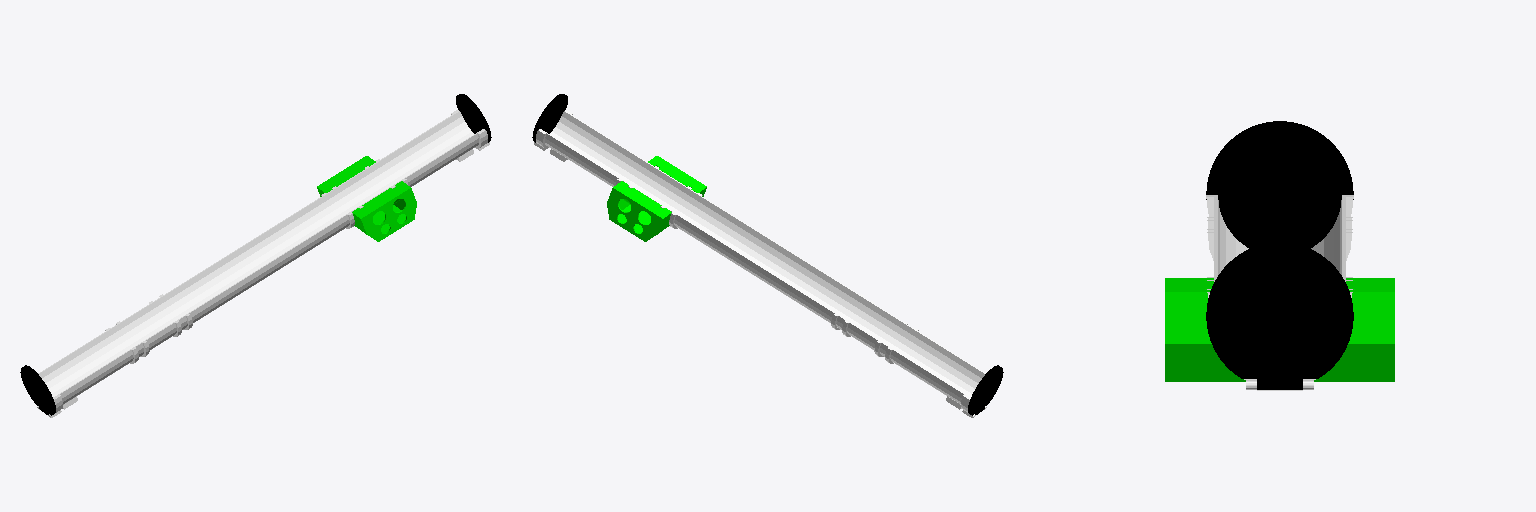
URDF robot description (exocet_launcher_half):
<?xml version="1.0" ?>
<!-- =================================================================================== -->
<!-- |    This document was autogenerated by xacro from src/exocet_launcher_half_description/urdf/exocet_launcher_half.xacro | -->
<!-- |    EDITING THIS FILE BY HAND IS NOT RECOMMENDED                                 | -->
<!-- =================================================================================== -->
<robot name="exocet_launcher_half">
  <material name="grey">
    <color rgba="0.2 0.2 0.2 1.0"/>
  </material>
  <material name="darkgrey">
    <color rgba="0.18359375 0.30859375 0.30859375 1.000"/>
  </material>
  <material name="silver">
    <color rgba="0.700 0.700 0.700 1.000"/>
  </material>
  <material name="white">
    <color rgba="1 1 1 1"/>
  </material>
  <material name="orange">
    <color rgba="1 0.3 0.1 1"/>
  </material>
  <material name="blue">
    <color rgba="0.2 0.2 1 1"/>
  </material>
  <material name="red">
    <color rgba="0.8 0 0 1"/>
  </material>
  <material name="green">
    <color rgba="0.0 1 0.0 1"/>
  </material>
  <material name="black">
    <color rgba="0 0 0 1"/>
  </material>
  <transmission name="CupOpener_tran">
    <type>transmission_interface/SimpleTransmission</type>
    <joint name="CupOpener">
      <hardwareInterface>hardware_interface/EffortJointInterface</hardwareInterface>
    </joint>
    <actuator name="CupOpener_actr">
      <hardwareInterface>hardware_interface/EffortJointInterface</hardwareInterface>
      <mechanicalReduction>1</mechanicalReduction>
    </actuator>
  </transmission>
  <gazebo reference="base_link">
    <material>Gazebo/DarkGrey</material>
    <mu1>0.2</mu1>
    <mu2>0.2</mu2>
    <selfCollide>true</selfCollide>
    <gravity>true</gravity>
  </gazebo>
  <gazebo reference="Canister_1">
    <material>Gazebo/White</material>
    <mu1>0.2</mu1>
    <mu2>0.2</mu2>
    <selfCollide>true</selfCollide>
    <visual>
      <transparency>0.75</transparency>
    </visual>
  </gazebo>
  <!-- <gazebo reference="Cup_3">
    <material>Gazebo/Black</material>
    <mu1>0.2</mu1>
    <mu2>0.2</mu2>
    <selfCollide>true</selfCollide>
  </gazebo> -->
  <gazebo reference="Cup_1">
    <material>Gazebo/Black</material>
    <mu1>0.2</mu1>
    <mu2>0.2</mu2>
    <selfCollide>true</selfCollide>
  </gazebo>
  <gazebo reference="CanisterHolder_1">
    <material>Gazebo/Green</material>
    <mu1>0.2</mu1>
    <mu2>0.2</mu2>
    <selfCollide>true</selfCollide>
  </gazebo>
  <gazebo reference="CanisterHolder_2">
    <material>Gazebo/Green</material>
    <mu1>0.2</mu1>
    <mu2>0.2</mu2>
    <selfCollide>true</selfCollide>
  </gazebo>
  <link name="base_link">
    <inertial>
      <origin rpy="0 0 0" xyz="0.21956009217606984 4.3636388735968575e-16 0.6746334924440056"/>
      <mass value="10722.621074762288"/>
      <inertia ixx="3680.005759" ixy="0.0" ixz="-2210.827735" iyy="13504.573497" iyz="0.0" izz="12126.040929"/>
    </inertial>
    <visual>
      <origin rpy="0 0 0" xyz="0 0 0"/>
      <geometry>
        <mesh filename="package://exocet_launcher_half_description/meshes/base_link.stl" scale="0.001 0.001 0.001"/>
      </geometry>
      <material name="darkgrey"/>
    </visual>
    <collision>
      <origin rpy="0 0 0" xyz="0 0 0"/>
      <geometry>
        <mesh filename="package://exocet_launcher_half_description/meshes/base_link.stl" scale="0.001 0.001 0.001"/>
      </geometry>
    </collision>
  </link>
  <link name="Canister_1">
    <inertial>
      <origin rpy="0 0 0" xyz="-1.3455029394993274 -5.851690442643435e-12 -0.6889676216530494"/>
      <mass value="804.672730610412"/>
      <inertia ixx="373.324731" ixy="-0.0" ixz="-924.286606" iyy="2888.906844" iyz="-0.0" izz="2576.368498"/>
    </inertial>
    <visual>
      <origin rpy="0 0 0" xyz="-1.262326 0.0 -2.249618"/>
      <geometry>
        <mesh filename="package://exocet_launcher_half_description/meshes/Canister_1.stl" scale="0.001 0.001 0.001"/>
      </geometry>
      <material name="white"/>
    </visual>
    <collision>
      <origin rpy="0 0 0" xyz="-1.262326 0.0 -2.249618"/>
      <geometry>
        <mesh filename="package://exocet_launcher_half_description/meshes/Canister_1.stl" scale="0.001 0.001 0.001"/>
      </geometry>
    </collision>
  </link>
  <link name="Cup_3">
    <inertial>
      <origin rpy="0 0 0" xyz="-0.10791790928581646 -8.207033013996926e-09 0.281244501140661"/>
      <mass value="124.35780308588551"/>
      <inertia ixx="5.91815" ixy="0.0" ixz="0.997121" iyy="3.153552" iyz="0.0" izz="3.54169"/>
    </inertial>
    <visual>
      <origin rpy="0 0 0" xyz="-2.805247 0.0 -2.491208"/>
      <geometry>
        <mesh filename="package://exocet_launcher_half_description/meshes/Cup_3.stl" scale="0.001 0.001 0.001"/>
      </geometry>
      <material name="black"/>
    </visual>
    <collision>
      <origin rpy="0 0 0" xyz="-2.805247 0.0 -2.491208"/>
      <geometry>
        <mesh filename="package://exocet_launcher_half_description/meshes/Cup_3.stl" scale="0.001 0.001 0.001"/>
      </geometry>
    </collision>
  </link>
  <link name="Cup_1">
    <inertial>
      <origin rpy="0 0 0" xyz="0.1876428588086605 8.207050409553099e-09 -0.6865610652939461"/>
      <mass value="124.35780308588551"/>
      <inertia ixx="5.918226" ixy="0.0" ixz="0.99703" iyy="3.153552" iyz="-0.0" izz="3.541614"/>
    </inertial>
    <visual>
      <origin rpy="0 0 0" xyz="3.177629 -0.0 -1.389734"/>
      <geometry>
        <mesh filename="package://exocet_launcher_half_description/meshes/Cup_1.stl" scale="0.001 0.001 0.001"/>
      </geometry>
      <material name="black"/>
    </visual>
    <collision>
      <origin rpy="0 0 0" xyz="3.177629 -0.0 -1.389734"/>
      <geometry>
        <mesh filename="package://exocet_launcher_half_description/meshes/Cup_1.stl" scale="0.001 0.001 0.001"/>
      </geometry>
    </collision>
  </link>
  <link name="CanisterHolder_1">
    <inertial>
      <origin rpy="0 0 0" xyz="-0.05951337321479344 1.4715522383126382e-16 0.16351174115532052"/>
      <mass value="335.0395971576902"/>
      <inertia ixx="43.686085" ixy="0.0" ixz="-3.25077" iyy="22.365267" iyz="0.0" izz="51.43432"/>
    </inertial>
    <visual>
      <origin rpy="0 0 0" xyz="1.419944 0.0 -0.847681"/>
      <geometry>
        <mesh filename="package://exocet_launcher_half_description/meshes/CanisterHolder_1.stl" scale="0.001 0.001 0.001"/>
      </geometry>
      <material name="green"/>
    </visual>
    <collision>
      <origin rpy="0 0 0" xyz="1.419944 0.0 -0.847681"/>
      <geometry>
        <mesh filename="package://exocet_launcher_half_description/meshes/CanisterHolder_1.stl" scale="0.001 0.001 0.001"/>
      </geometry>
    </collision>
  </link>
  <link name="CanisterHolder_2">
    <inertial>
      <origin rpy="0 0 0" xyz="-0.05951351085707057 1.4715522383126382e-16 0.16351217113232974"/>
      <mass value="335.0395971576902"/>
      <inertia ixx="43.686085" ixy="0.0" ixz="-3.25077" iyy="22.365267" iyz="0.0" izz="51.43432"/>
    </inertial>
    <visual>
      <origin rpy="0 0 0" xyz="-1.399134 0.0 -1.873741"/>
      <geometry>
        <mesh filename="package://exocet_launcher_half_description/meshes/CanisterHolder_2.stl" scale="0.001 0.001 0.001"/>
      </geometry>
      <material name="green"/>
    </visual>
    <collision>
      <origin rpy="0 0 0" xyz="-1.399134 0.0 -1.873741"/>
      <geometry>
        <mesh filename="package://exocet_launcher_half_description/meshes/CanisterHolder_2.stl" scale="0.001 0.001 0.001"/>
      </geometry>
    </collision>
  </link>
  <joint name="CanisterToHolder2" type="fixed">
    <origin rpy="0 0 0" xyz="-0.136808 0.0 0.375877"/>
    <parent link="CanisterHolder_2"/>
    <child link="Canister_1"/>
  </joint>
  <joint name="CupOpener" type="revolute">
    <origin rpy="0 0 0" xyz="1.542921 0.0 0.24159"/>
    <parent link="Canister_1"/>
    <child link="Cup_3"/>
    <axis xyz="0.0 1.0 0.0"/>
    <limit effort="100" lower="0.0" upper="4.712389" velocity="100"/>
  </joint>
  <joint name="CupCloser" type="fixed">
    <origin rpy="0 0 0" xyz="-4.439955 0.0 -0.859884"/>
    <parent link="Canister_1"/>
    <child link="Cup_1"/>
  </joint>
  <joint name="BaseToHolder1" type="fixed">
    <origin rpy="0 0 0" xyz="-1.419944 0.0 0.847681"/>
    <parent link="base_link"/>
    <child link="CanisterHolder_1"/>
  </joint>
  <joint name="BaseToHolder2" type="fixed">
    <origin rpy="0 0 0" xyz="1.399134 0.0 1.873741"/>
    <parent link="base_link"/>
    <child link="CanisterHolder_2"/>
  </joint>
</robot>

--- Render facts (derived) ---
Views: 3 orthographic renders of the robot side by side, from view 1: azimuth 30°, elevation 25°; view 2: azimuth 150°, elevation 25°; view 3: azimuth 270°, elevation 25°.
Model exocet_launcher_half with 6 links and 5 joints (1 revolute, 4 fixed), rooted at base_link, posed every joint at zero.
Links seen in each view (by area): view 1: Canister_1, CanisterHolder_2, Cup_1, Cup_3; view 2: Canister_1, CanisterHolder_2, Cup_1, Cup_3; view 3: Cup_3, Cup_1, CanisterHolder_2, Canister_1.
Link boxes in pixels (x1,y1,x2,y2): Canister_1: (37, 110, 489, 417); CanisterHolder_2: (317, 156, 416, 241); Cup_1: (20, 365, 55, 415); Cup_3: (456, 94, 491, 142); Canister_1: (534, 110, 986, 417); CanisterHolder_2: (607, 156, 706, 241); Cup_1: (968, 365, 1003, 415); Cup_3: (532, 94, 567, 142); Cup_3: (1206, 242, 1353, 389); Cup_1: (1206, 121, 1353, 248); CanisterHolder_2: (1165, 278, 1394, 381); Canister_1: (1206, 195, 1353, 390).
Size in the robot's own frame: 5.94 by 1 by 2.68 metres.
Meshes: 6 distinct files referenced, 4 mesh visuals loaded (4 binary STL); not drawn: 2 (reference not matched to a file when rendering).
